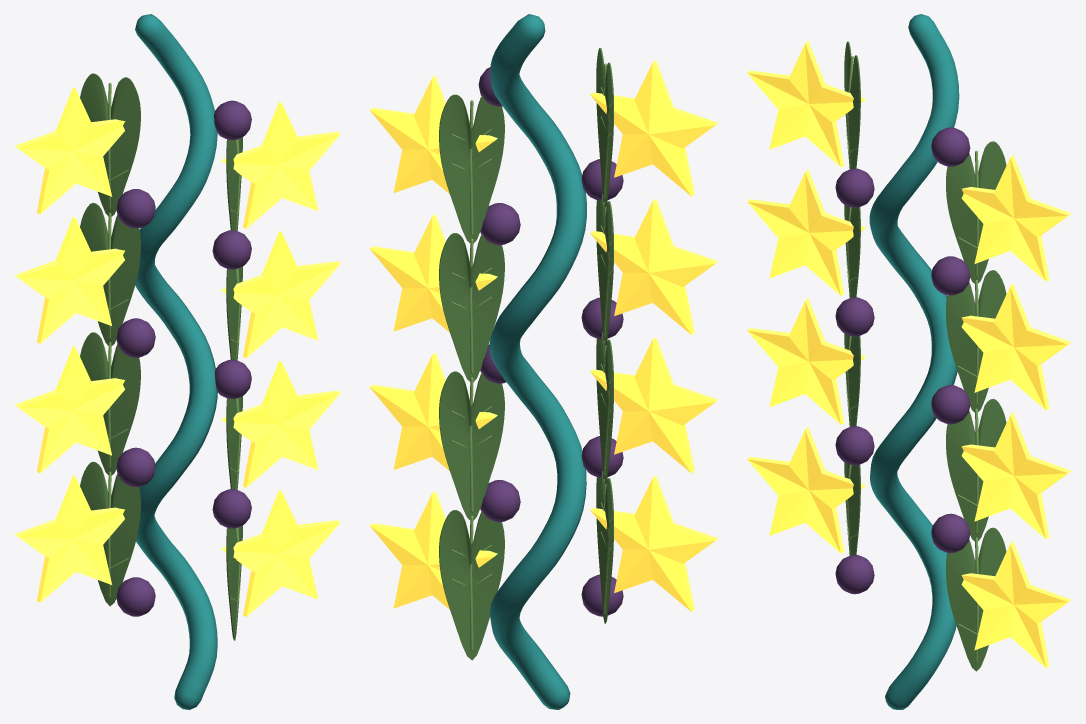
File: star_vine_ripe.glb
3 renders of one model, left to right at view 1: azimuth 30°, elevation 25°; view 2: azimuth 150°, elevation 25°; view 3: azimuth 330°, elevation 25°, orthographic. The views are drawn at different scales.
Visible parts, largest first — view 1: Twining_stem, Star, Star.002, Star.006, Star.004, Star.005, Star.001, Star.003, Star.007, Broad_shaped_leaf.007, Broad_shaped_leaf.001, Broad_shaped_leaf.003 (+13 smaller); view 2: Twining_stem, Star.003, Star.001, Star.005, Star.007, Broad_shaped_leaf.004, Broad_shaped_leaf.002, Broad_shaped_leaf.006, Broad_shaped_leaf, Star, Star.004, Star.006 (+11 smaller); view 3: Twining_stem, Star.005, Star.001, Star.003, Star.007, Star.006, Star, Star.002, Star.004, Broad_shaped_leaf, Broad_shaped_leaf.006, Broad_shaped_leaf.004 (+13 smaller).
Part boxes in pixels (bbox=[...]): Twining_stem: bbox=[135, 14, 217, 709]; Star: bbox=[221, 490, 340, 616]; Star.002: bbox=[221, 360, 340, 487]; Star.006: bbox=[221, 101, 340, 228]; Star.004: bbox=[221, 231, 340, 358]; Star.005: bbox=[15, 216, 124, 343]; Star.001: bbox=[14, 475, 124, 602]; Star.003: bbox=[14, 346, 124, 473]; Star.007: bbox=[15, 87, 125, 214]; Broad_shaped_leaf.007: bbox=[80, 73, 140, 216]; Broad_shaped_leaf.001: bbox=[80, 461, 140, 606]; Broad_shaped_leaf.003: bbox=[80, 332, 140, 475]; Twining_stem: bbox=[489, 14, 586, 709]; Star.003: bbox=[590, 337, 718, 473]; Star.001: bbox=[590, 476, 718, 611]; Star.005: bbox=[590, 199, 717, 334]; Star.007: bbox=[590, 60, 718, 196]; Broad_shaped_leaf.004: bbox=[439, 233, 504, 382]; Broad_shaped_leaf.002: bbox=[439, 371, 504, 520]; Broad_shaped_leaf.006: bbox=[439, 94, 504, 243]; Broad_shaped_leaf: bbox=[439, 510, 504, 660]; Star: bbox=[369, 491, 497, 609]; Star.004: bbox=[369, 214, 497, 332]; Star.006: bbox=[370, 76, 497, 193]; Twining_stem: bbox=[869, 14, 959, 709]; Star.005: bbox=[747, 169, 866, 295]; Star.001: bbox=[747, 427, 866, 553]; Star.003: bbox=[747, 298, 866, 424]; Star.007: bbox=[747, 40, 866, 166]; Star.006: bbox=[961, 155, 1071, 281]; Star: bbox=[961, 541, 1071, 667]; Star.002: bbox=[961, 412, 1071, 538]; Star.004: bbox=[961, 284, 1071, 410]; Broad_shaped_leaf: bbox=[946, 527, 1006, 671]; Broad_shaped_leaf.006: bbox=[946, 141, 1006, 283]; Broad_shaped_leaf.004: bbox=[946, 270, 1006, 412].
Size of the model in its own units: 0.4712 by 0.9351 by 0.1153.
